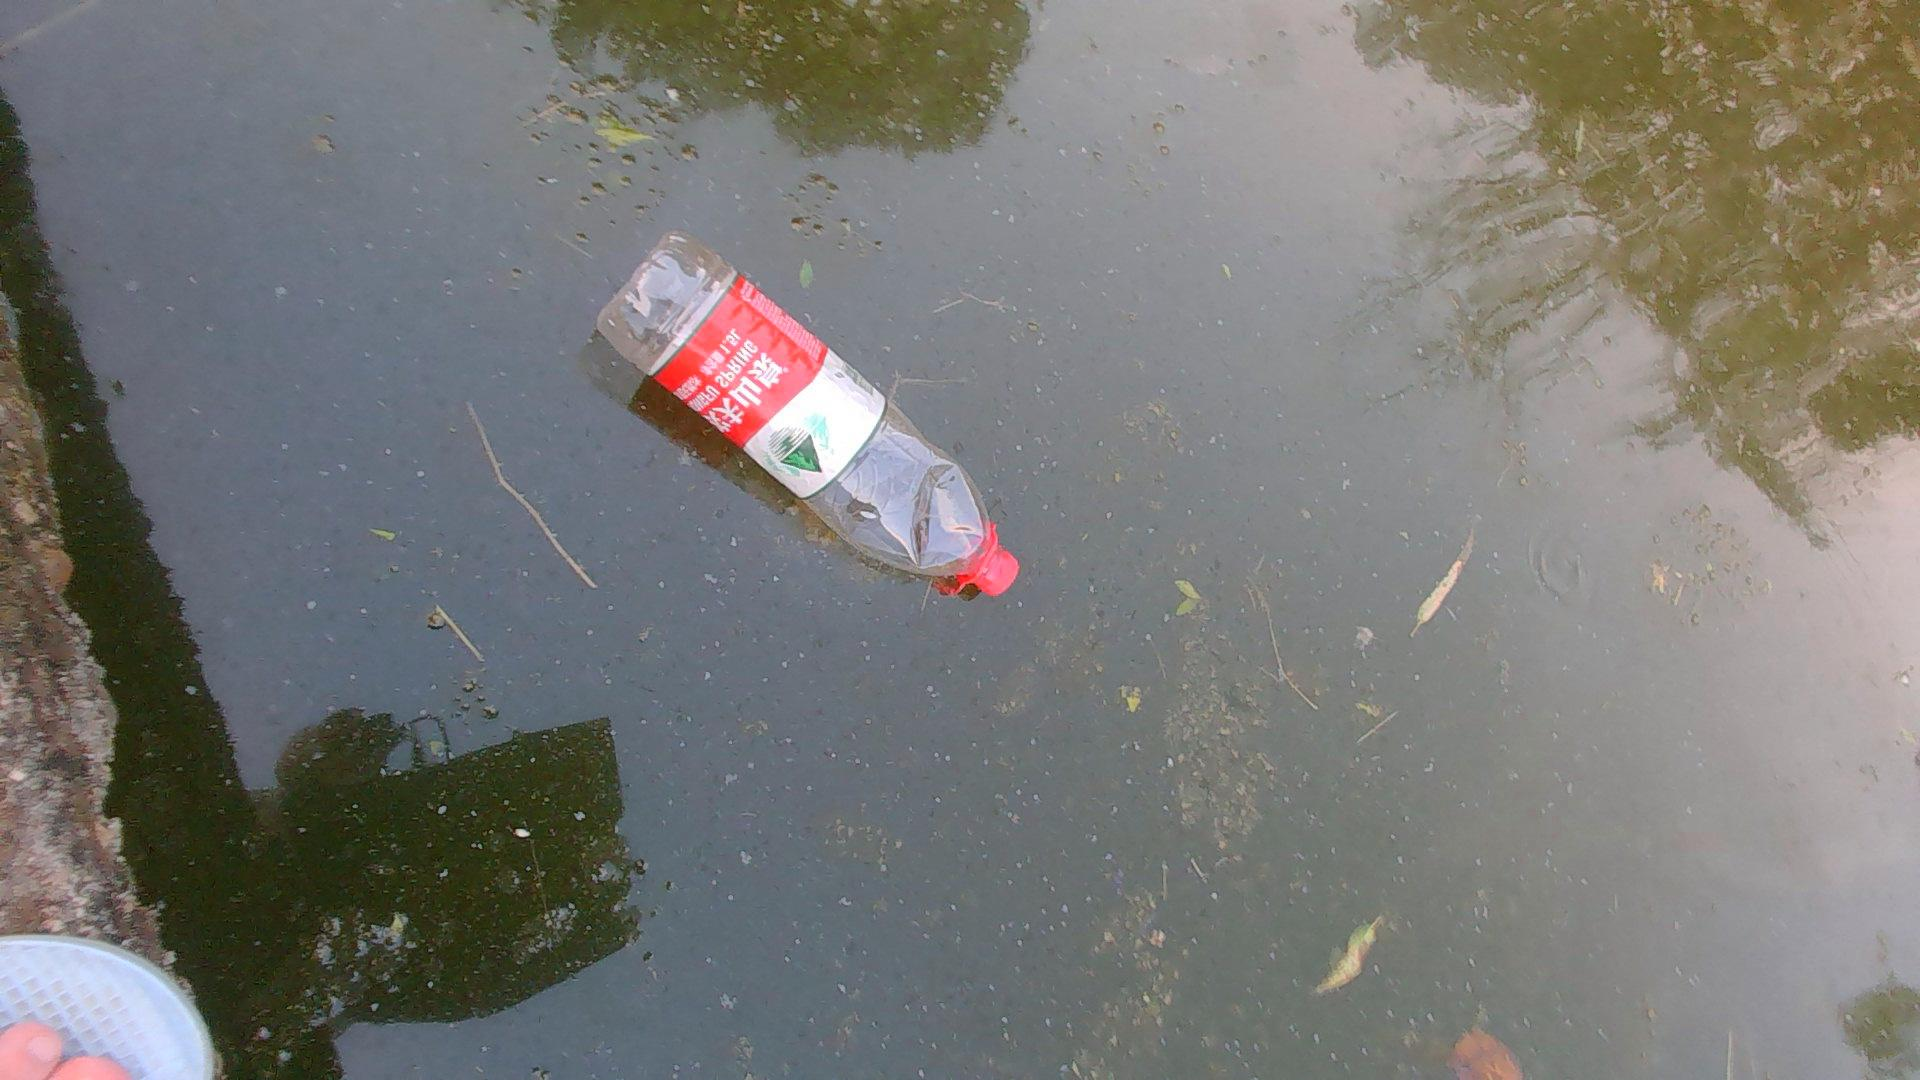Plastic: (592, 227, 1036, 607)
